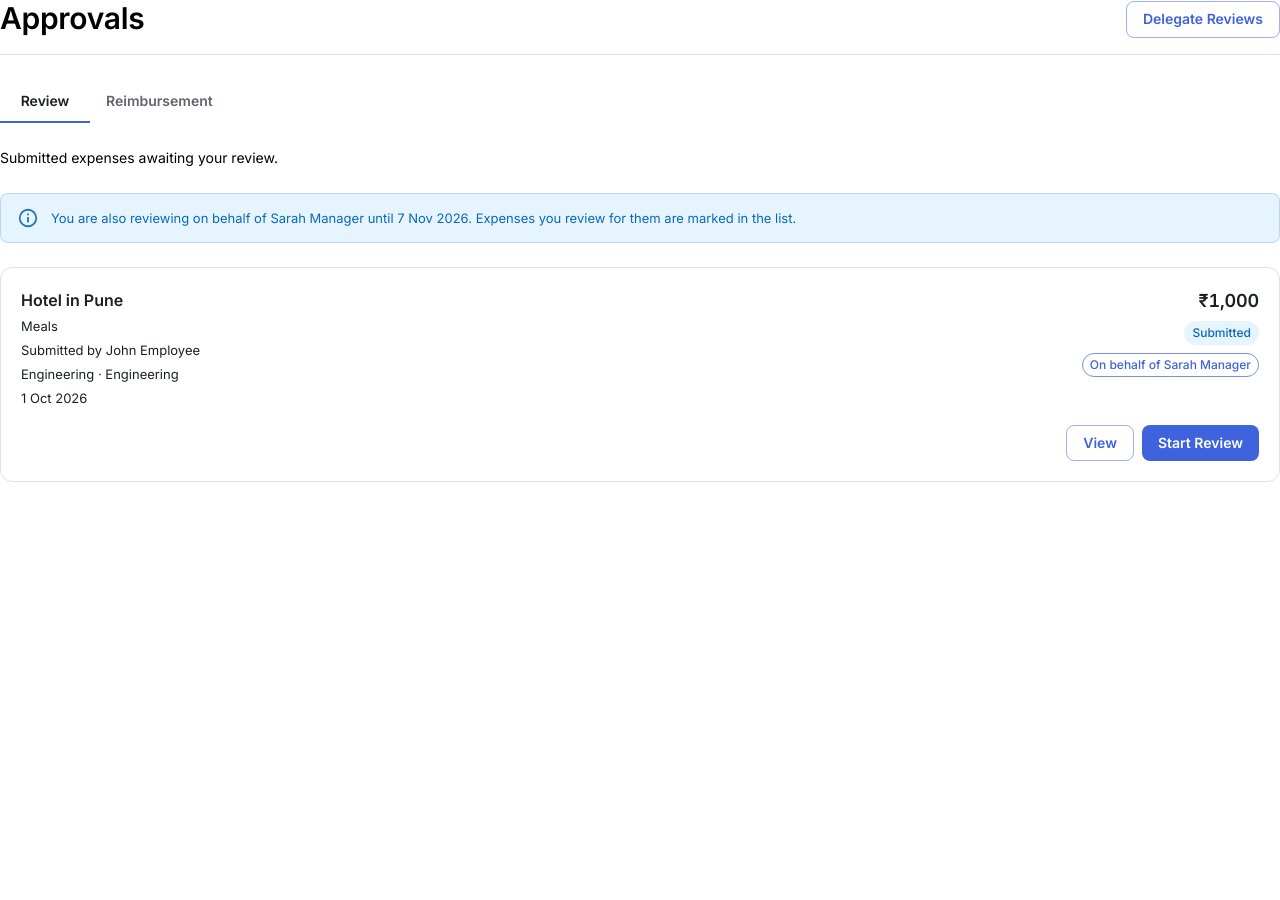
Test: ApprovalsPage review queue › marks expenses reviewed on someone's behalf and says whom the reviewer acts for
Expected: the text "You are also reviewing on behalf of Sarah Manager until" is shown, [51,210,796,226]
Expected: the text "On behalf of Sarah Manager" is shown, [1083,356,1258,374]
Click the button "Start Review" at (1200, 443), box [1142,425,1259,461]
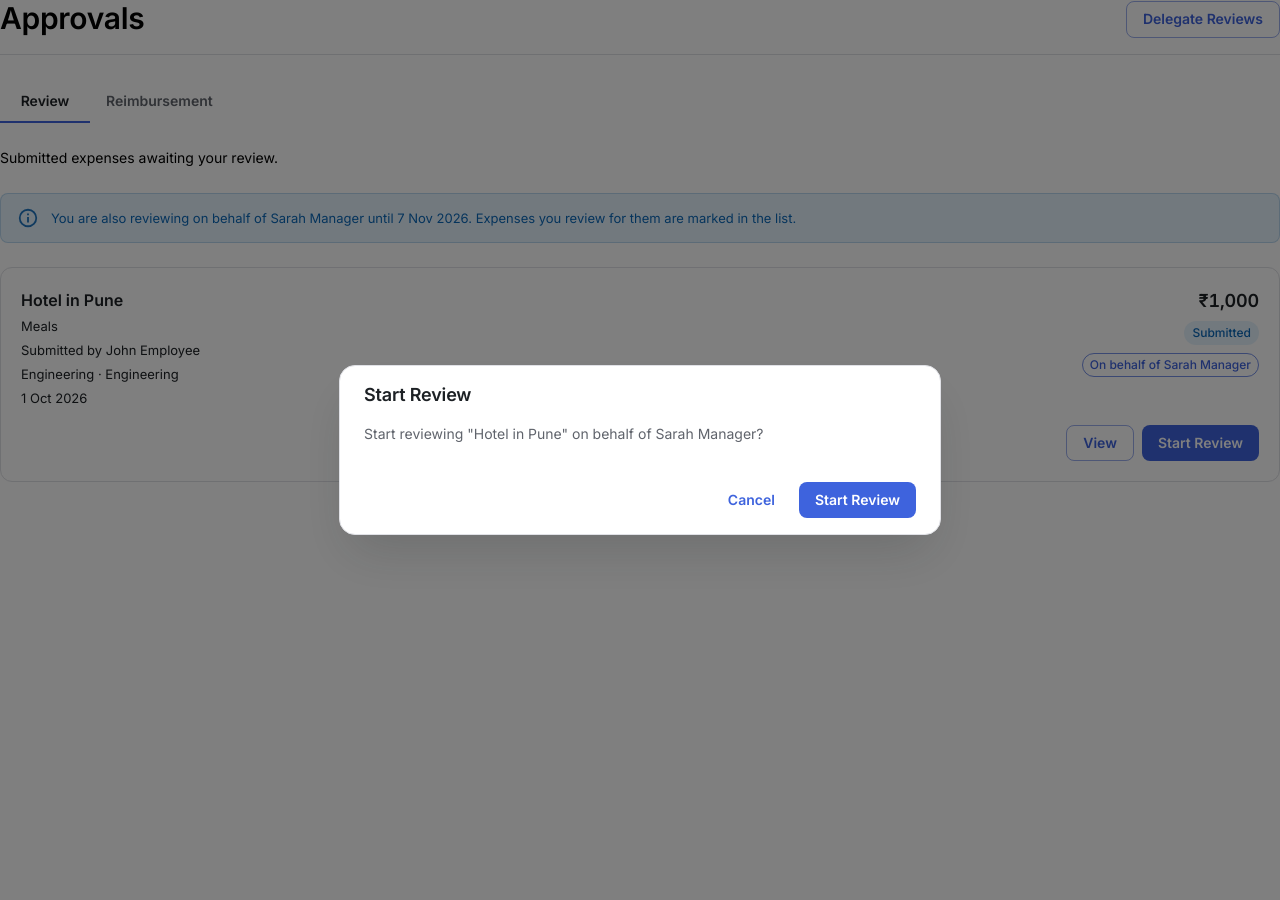
Now the dialog "Start Review" shows "Start reviewing \"Hotel in Pune\" on behalf of Sarah Manager?", box [364,425,764,442]
